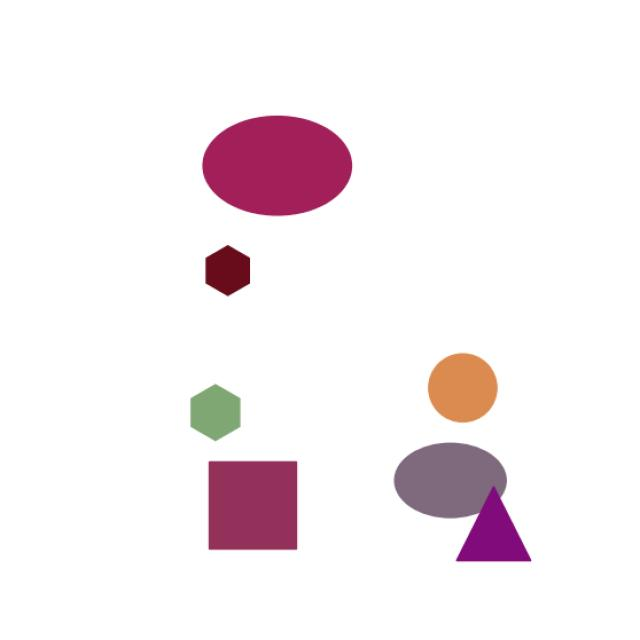Circle: (416, 341, 506, 434)
Hexagon: (195, 232, 274, 313), (181, 382, 252, 451)
Oval: (192, 103, 359, 223), (382, 434, 518, 524)
Triangle: (443, 481, 559, 584)
square: (196, 451, 317, 578)
